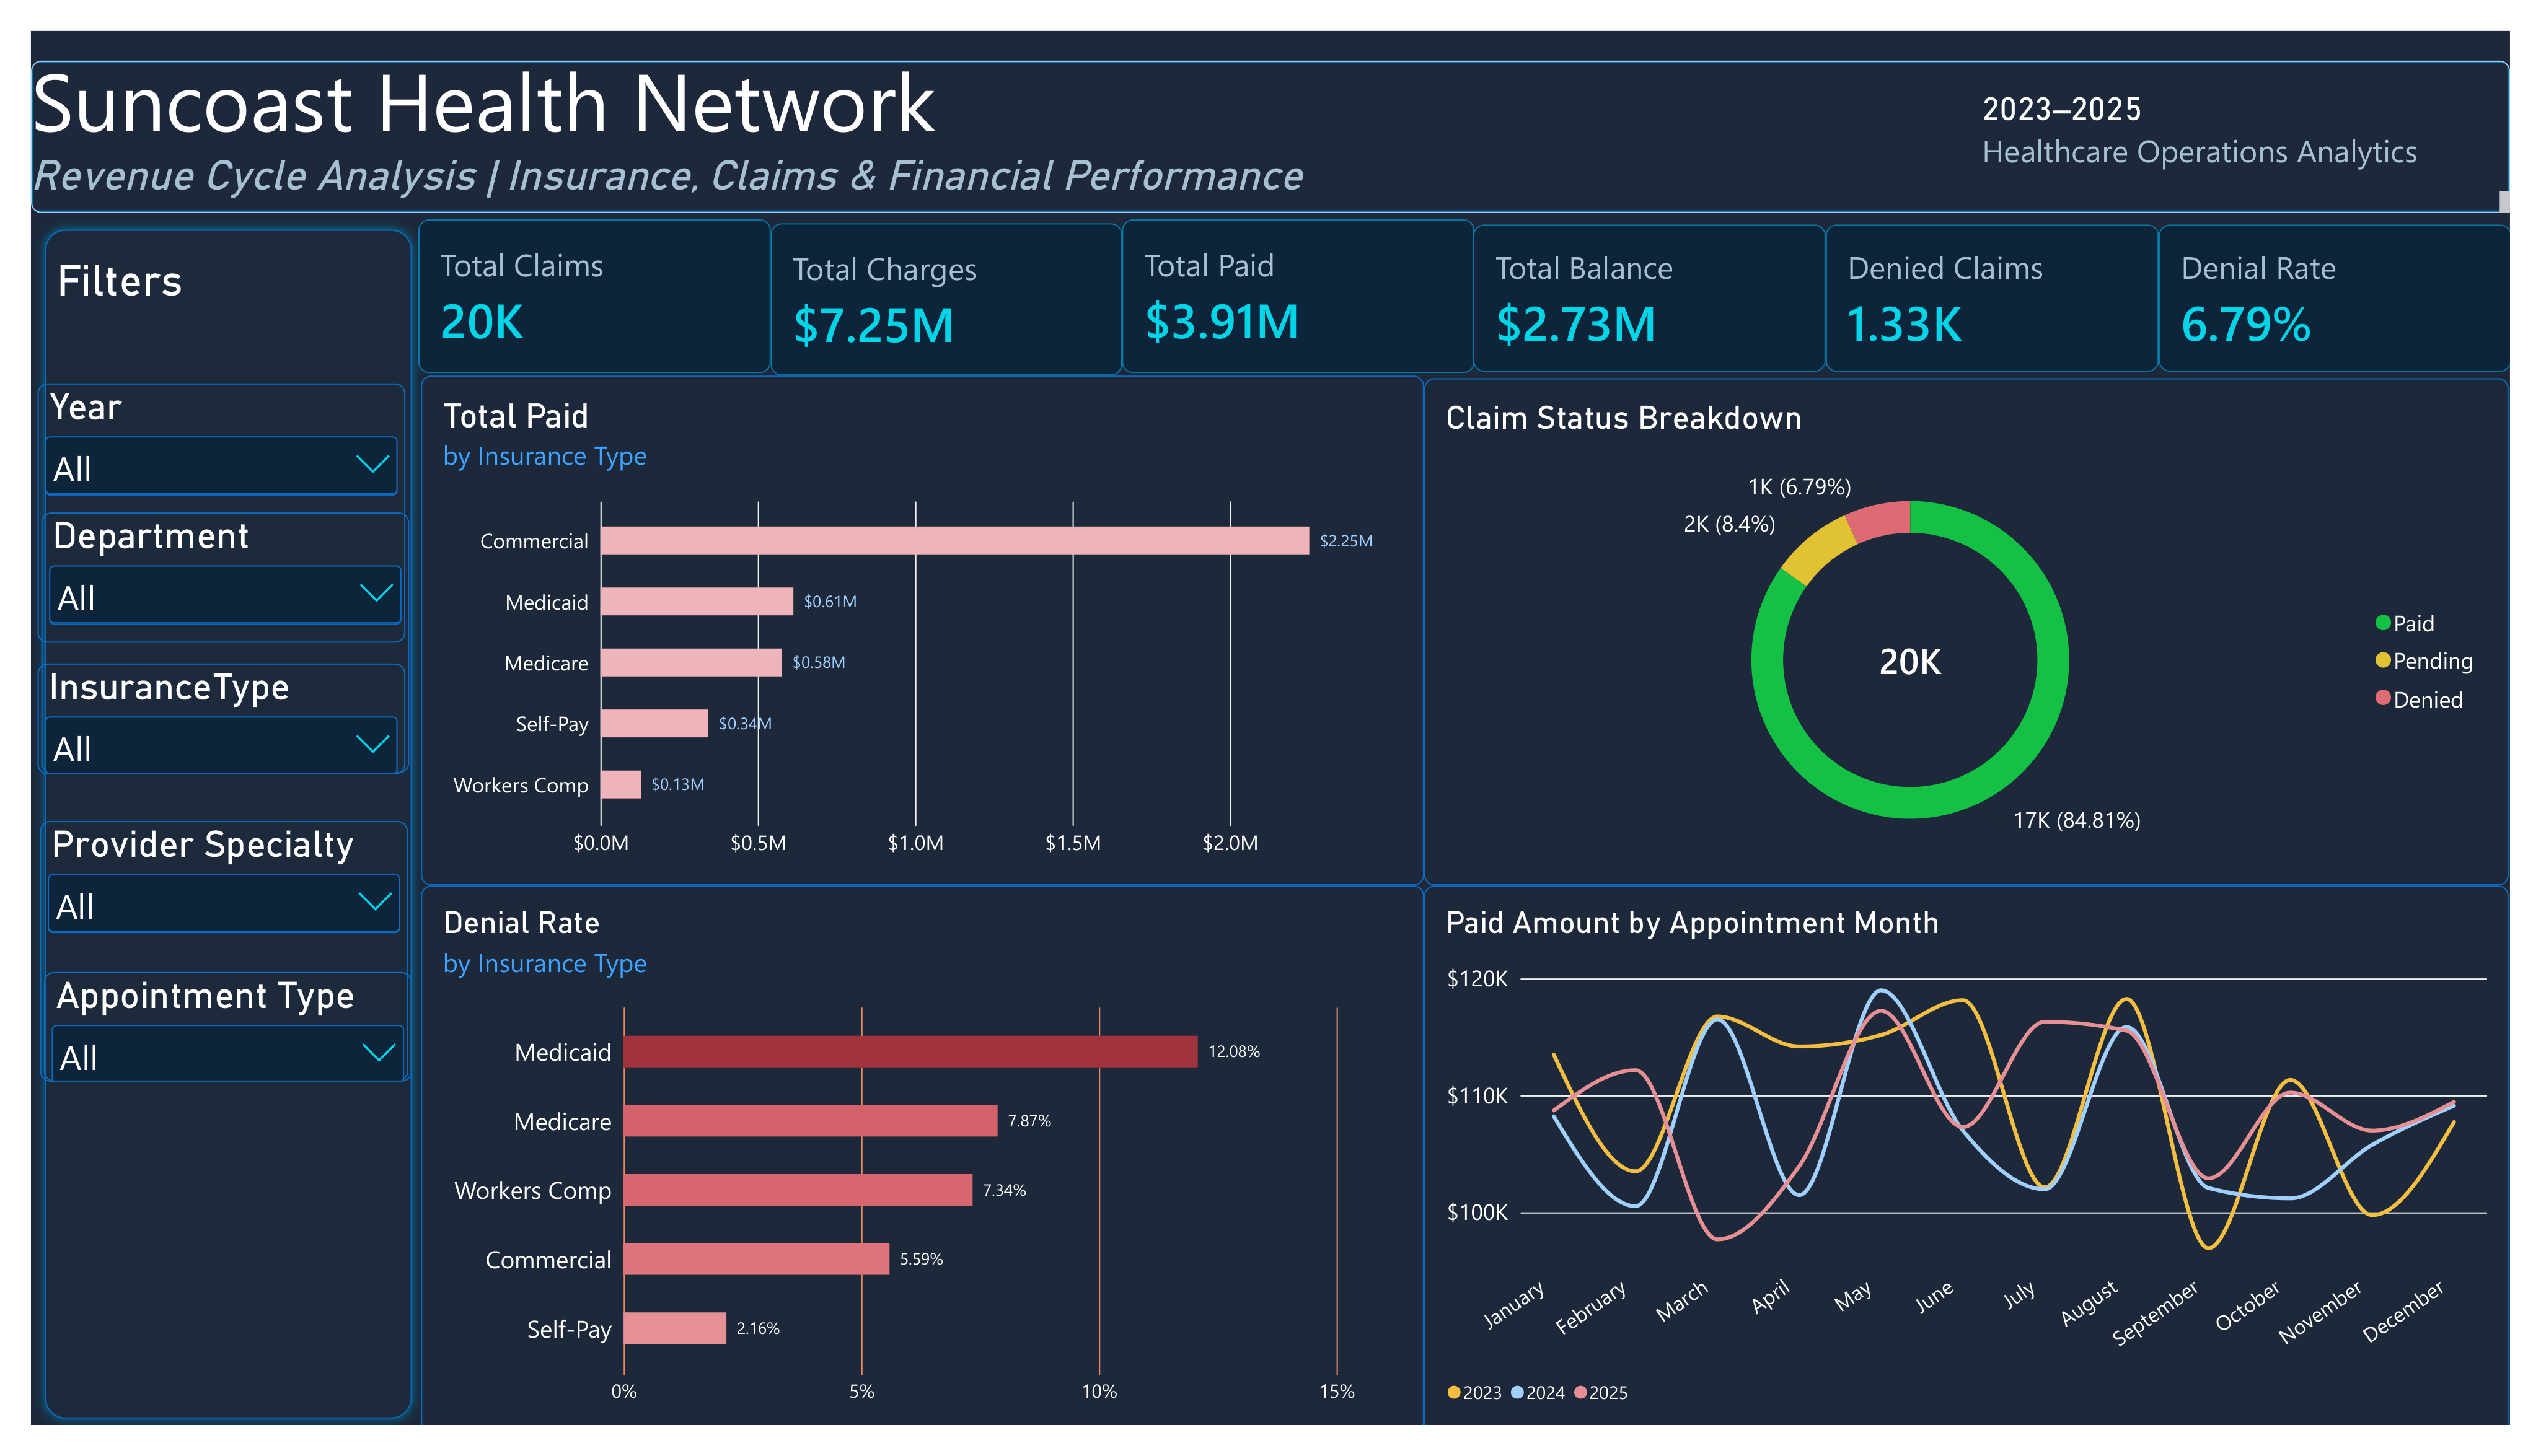

The dashboard page shown, as its layout file describes it:
{"tool":"powerbi","page":{"name":"Revenue Cycle Analysis","canvas":[1920,1080],"ordinal":4},"visuals":[{"type":"shape","box":[0,22.7,1920.3,118.6],"z":0},{"type":"textbox","title":"Suncoast Health Network","box":[0,10.1,1140.6,138.8],"z":1000},{"type":"textbox","title":"Revenue Cycle Analysis | Insurance, Claims & Financial Performance","box":[0,93.4,1920.3,40.4],"z":2000},{"type":"textbox","title":"2023–2025 ","box":[1511.5,45.4,408.8,95.9],"z":3000},{"type":"shape","title":"Filters","box":[2.5,146.4,300.3,936.2],"z":4000},{"type":"textbox","title":"Filters","box":[20.2,174.1,244.8,93.4],"z":5000},{"type":"slicer","fields":{"Values":["DimDate.Year"]},"box":[5,272.5,285.1,201.9],"z":6000},{"type":"cardVisual","title":"No Show Rate","fields":{"Data":["DimDate.Total Charges by Appointment Year"]},"box":[572.8,148.9,272.5,118.6],"z":7000},{"type":"cardVisual","title":"No Show Rate","fields":{"Data":["DimDate.Total Claims by Appointment Year"]},"box":[300.3,146.4,272.5,118.6],"z":8000},{"type":"cardVisual","title":"No Show Rate","fields":{"Data":["DimDate.Total Paid by Appointment Year"]},"box":[845.3,146.4,272.5,118.6],"z":9000},{"type":"cardVisual","title":"No Show Rate","fields":{"Data":["DimDate.Total Balance by Appointment Year"]},"box":[1116.7,150,273.8,114.3],"z":10000},{"type":"cardVisual","title":"No Show Rate","fields":{"Data":["DimDate.Denial Rate by Appointment Year"]},"box":[1647.6,150,273.8,114.3],"z":11000},{"type":"cardVisual","title":"No Show Rate","fields":{"Data":["DimDate.Denied Claims by Appointment Year"]},"box":[1390.5,150,257.1,114.3],"z":12000},{"type":"slicer","fields":{"Values":["DimDepartment.DepartmentName"]},"box":[7.6,373.5,285.1,201.9],"z":13000},{"type":"slicer","fields":{"Values":["DimProvider.Specialty"]},"box":[7.1,611.9,285.1,201.9],"z":14000},{"type":"slicer","fields":{"Values":["FactAppointments.AppointmentType"]},"box":[9.5,728.6,285.1,85.8],"z":15000},{"type":"slicer","fields":{"Values":["DimInsurance.InsuranceType"]},"box":[4.8,490.5,285.1,85.8],"z":16000},{"type":"clusteredBarChart","title":"Total Paid","fields":{"Category":["DimInsurance.InsuranceType"],"Y":["DimDate.Total Paid by Appointment Year"]},"box":[302.4,266.7,776.2,395.2],"z":17000},{"type":"donutChart","title":"Claim Status Breakdown","fields":{"Category":["FactBilling.ClaimStatus"],"Y":["DimDate.Total Claims by Appointment Year"]},"box":[1078.6,269,840.5,392.9],"z":18000},{"type":"clusteredBarChart","title":"Denial Rate","fields":{"Category":["DimInsurance.InsuranceType"],"Y":["DimDate.Denial Rate by Appointment Year","DimDate.Denial Rate by Appointment Year"]},"box":[302.4,661.9,776.2,423.8],"z":19000},{"type":"lineChart","title":"Paid Amount by Appointment Month","fields":{"Category":["DimDate.MonthName"],"Series":["DimDate.Year"],"Y":["DimDate.Total Paid by Appointment Year"]},"box":[1078.6,661.9,840.5,423.8],"z":20000}]}

Visuals, with their boxes on the page's 1920x1080 design canvas (x1, y1, x2, y2). These are canvas units, not pixel positions in the 2541x1456 screenshot, which may show the page scaled, cropped or inside an application window:
shape: bbox=[0, 23, 1920, 141]
"Suncoast Health Network" textbox: bbox=[0, 10, 1141, 149]
"Revenue Cycle Analysis | Insurance, Claims & Financial Performance" textbox: bbox=[0, 93, 1920, 134]
"2023–2025 " textbox: bbox=[1512, 45, 1920, 141]
"Filters" shape: bbox=[2, 146, 303, 1083]
"Filters" textbox: bbox=[20, 174, 265, 268]
slicer - DimDate.Year: bbox=[5, 272, 290, 474]
"No Show Rate" cardVisual: bbox=[573, 149, 845, 268]
"No Show Rate" cardVisual: bbox=[300, 146, 573, 265]
"No Show Rate" cardVisual: bbox=[845, 146, 1118, 265]
"No Show Rate" cardVisual: bbox=[1117, 150, 1390, 264]
"No Show Rate" cardVisual: bbox=[1648, 150, 1921, 264]
"No Show Rate" cardVisual: bbox=[1390, 150, 1648, 264]
slicer - DimDepartment.DepartmentName: bbox=[8, 374, 293, 575]
slicer - DimProvider.Specialty: bbox=[7, 612, 292, 814]
slicer - FactAppointments.AppointmentType: bbox=[10, 729, 295, 814]
slicer - DimInsurance.InsuranceType: bbox=[5, 490, 290, 576]
"Total Paid" clusteredBarChart: bbox=[302, 267, 1079, 662]
"Claim Status Breakdown" donutChart: bbox=[1079, 269, 1919, 662]
"Denial Rate" clusteredBarChart: bbox=[302, 662, 1079, 1086]
"Paid Amount by Appointment Month" lineChart: bbox=[1079, 662, 1919, 1086]
